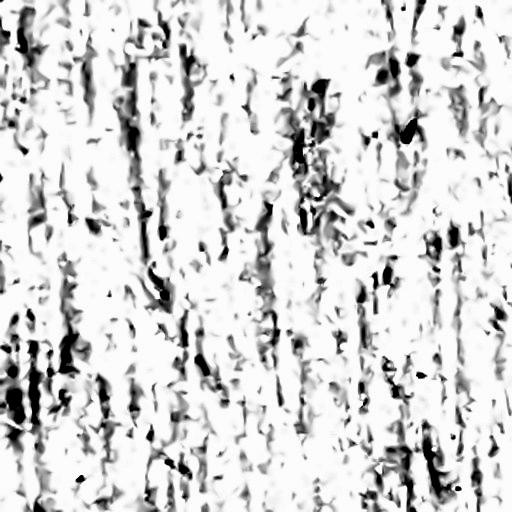egg: (403, 119, 415, 143)
